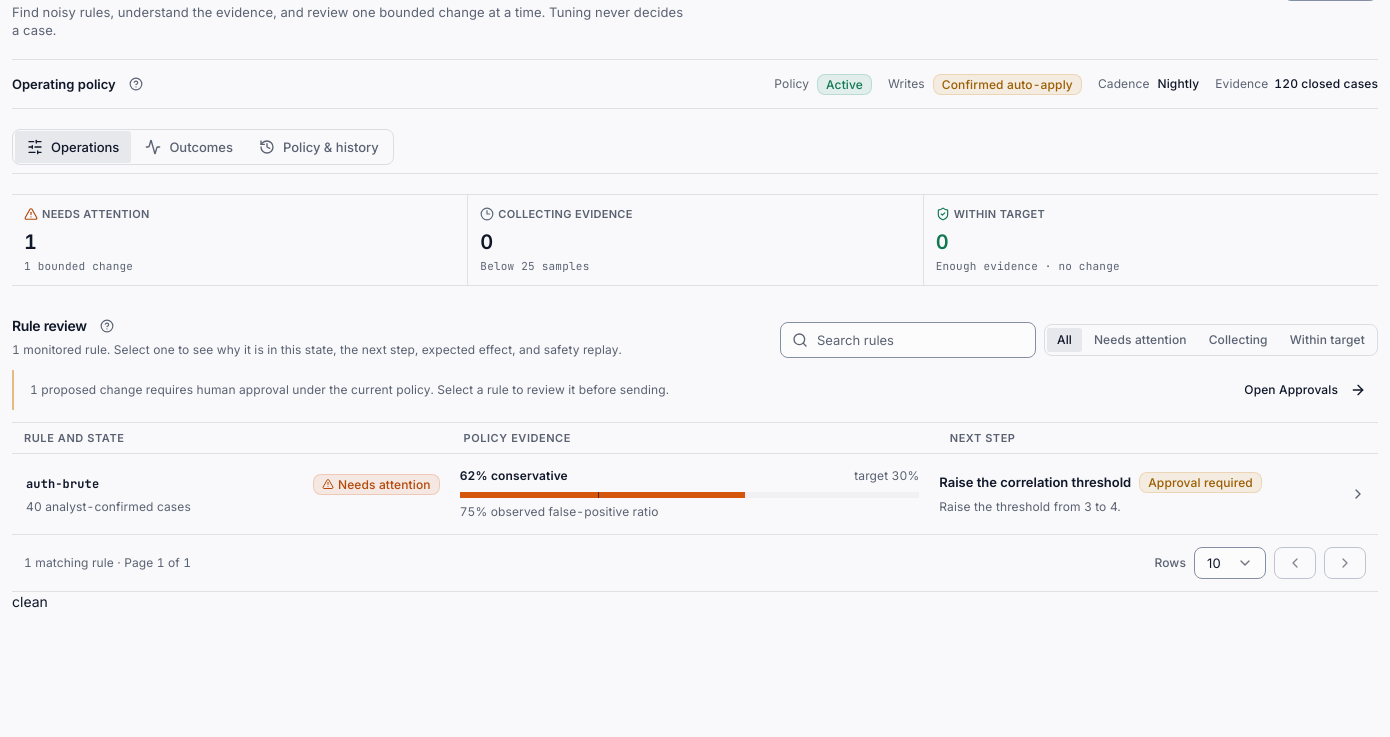
Test: Tuning page › explains an inconclusive safety replay without claiming a hidden true positive
The width and height of the screenshot is (1390, 737).
Click the button with aria-label "Inspect rule auth-brute" at (695, 494), box [12,454,1378,534]
(page scrolled)
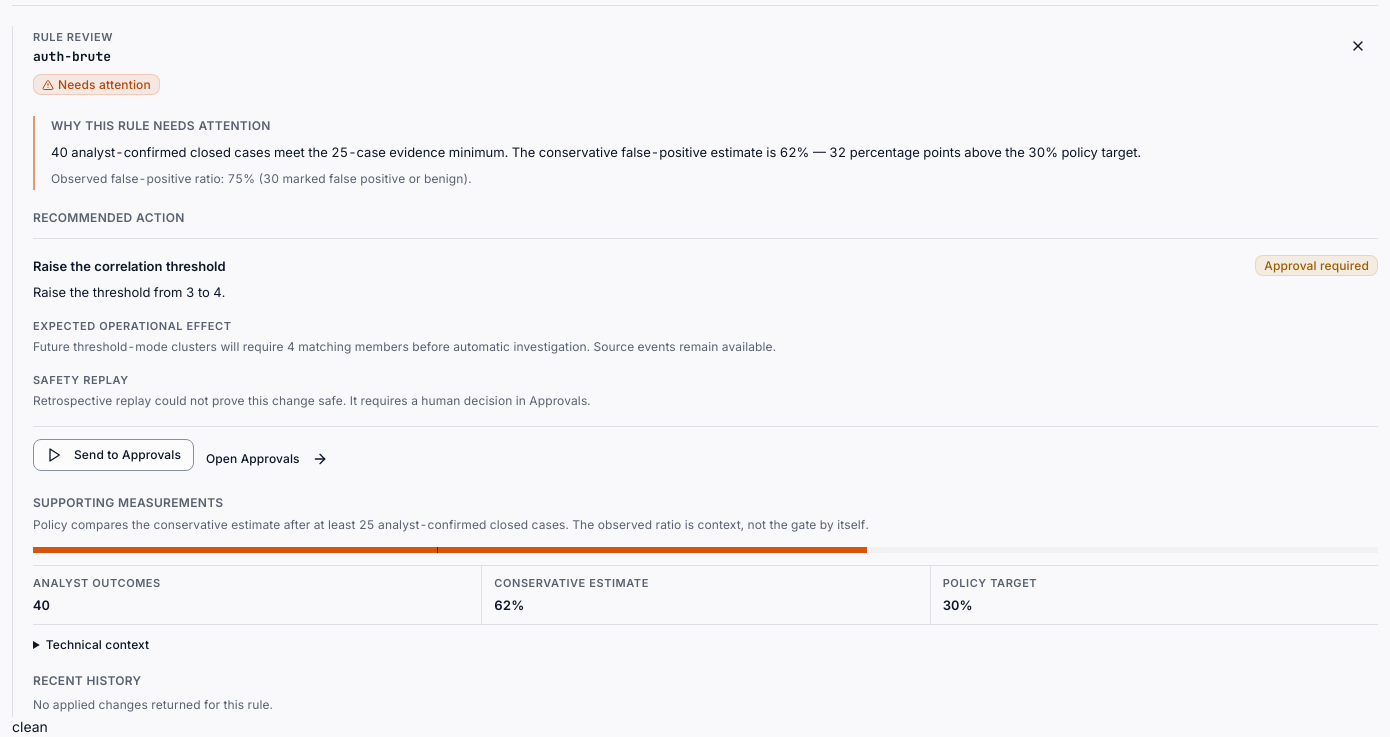
Expected: the text "requires a human decision in approvals" is shown, [33,393,591,408]
